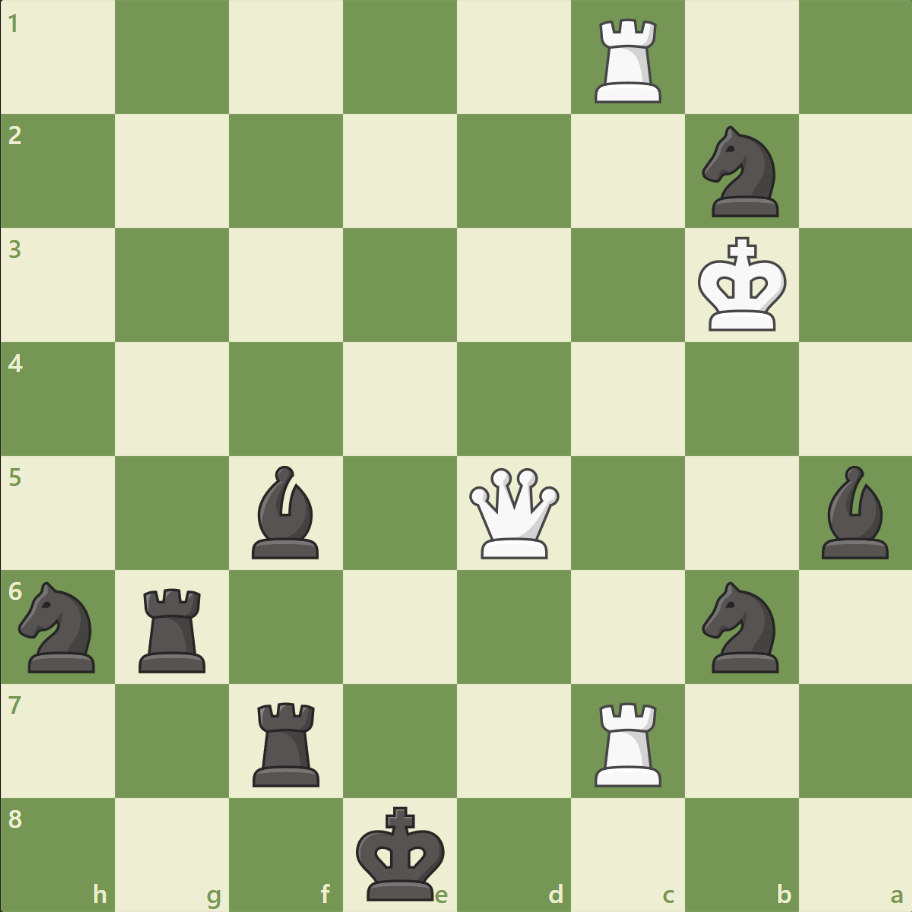K: (692, 231, 792, 339)
Q: (464, 463, 563, 562)
R: (587, 693, 670, 790), (587, 12, 670, 109)
b: (812, 460, 896, 563), (244, 460, 328, 563)
k: (351, 798, 451, 906)
n: (692, 575, 789, 677), (11, 575, 108, 677), (692, 121, 789, 223)
r: (246, 693, 329, 790), (133, 579, 215, 676)
